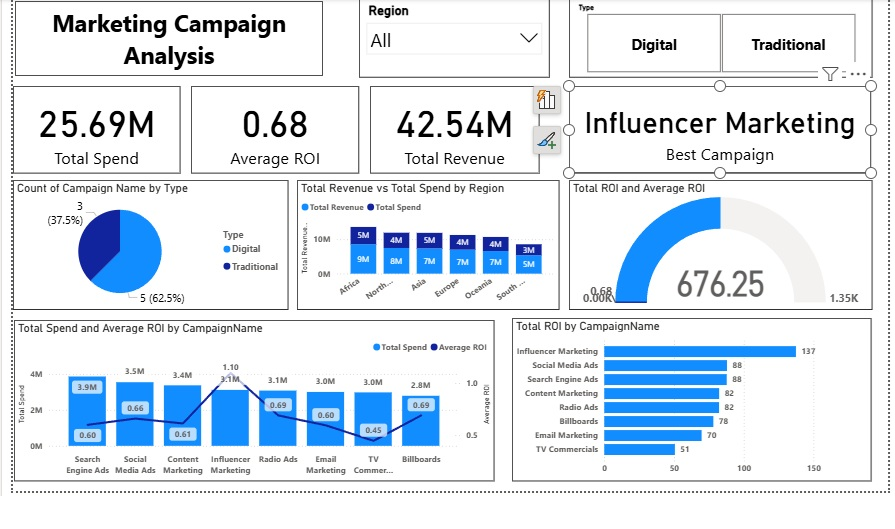

The dashboard page shown, as its layout file describes it:
{"tool":"powerbi","page":{"name":"Page 1","canvas":[1280,720],"ordinal":0},"visuals":[{"type":"columnChart","title":"Total Revenue vs Total Spend by Region","fields":{"Category":["marketing campaign performance.Region"],"Y":["marketing campaign performance.Total Revenue","marketing campaign performance.Total Spend"]},"box":[416.2,265,384.5,190.1],"z":0},{"type":"barChart","fields":{"Y":["marketing campaign performance.Total ROI"],"Category":["marketing campaign details.CampaignName"]},"box":[730.1,466.6,525.6,239],"z":1000},{"type":"pieChart","title":"Count of Campaign Name by Type","fields":{"Category":["marketing campaign details.Type"],"Y":["CountNonNull(marketing campaign details.Type)"]},"box":[0,265,403.2,190.1],"z":2000},{"type":"card","fields":{"Values":["marketing campaign performance.Average ROI"]},"box":[260.6,126.7,246.2,128.2],"z":4000},{"type":"slicer","fields":{"Values":["marketing campaign performance.Region"]},"box":[506.9,0,279.4,115.2],"z":5000},{"type":"slicer","fields":{"Values":["marketing campaign details.Type"]},"box":[813.6,0,443.5,115.2],"z":6000},{"type":"card","fields":{"Values":["marketing campaign performance.Total Spend"]},"box":[0,126.7,244.8,128.2],"z":7000},{"type":"card","fields":{"Values":["marketing campaign performance.Total Revenue"]},"box":[522.7,126.7,247.7,128.2],"z":8000},{"type":"actionButton","box":[0,0,456.6,115.6],"z":8001},{"type":"card","fields":{"Values":["marketing campaign performance.Best Campaign"]},"box":[813.6,126.7,442.1,128.2],"z":8002},{"type":"lineClusteredColumnComboChart","fields":{"Category":["marketing campaign details.CampaignName"],"Y":["marketing campaign performance.Total Spend"],"Y2":["marketing campaign performance.Average ROI"]},"box":[1.4,469.4,702.7,236.2],"z":8003},{"type":"gauge","fields":{"Y":["marketing campaign performance.Total ROI"],"TargetValue":["marketing campaign performance.Average ROI"]},"box":[813.6,265,443.5,190.1],"z":8004}]}

Visuals, with their boxes in screenshot pixels (x1, y1, x2, y2):
"Total Revenue vs Total Spend by Region" columnChart: detection(294, 178, 559, 309)
barChart - marketing campaign performance.Total ROI x marketing campaign details.CampaignName: detection(510, 317, 873, 482)
"Count of Campaign Name by Type" pieChart: detection(7, 178, 285, 309)
card - marketing campaign performance.Average ROI: detection(187, 83, 356, 171)
slicer - marketing campaign performance.Region: detection(357, 0, 549, 75)
slicer - marketing campaign details.Type: detection(568, 0, 874, 75)
card - marketing campaign performance.Total Spend: detection(7, 83, 176, 171)
card - marketing campaign performance.Total Revenue: detection(367, 83, 538, 171)
actionButton: detection(7, 0, 322, 75)
card - marketing campaign performance.Best Campaign: detection(568, 83, 873, 171)
lineClusteredColumnComboChart - marketing campaign details.CampaignName x marketing campaign performance.Total Spend: detection(8, 319, 493, 482)
gauge - marketing campaign performance.Total ROI x marketing campaign performance.Average ROI: detection(568, 178, 874, 309)
